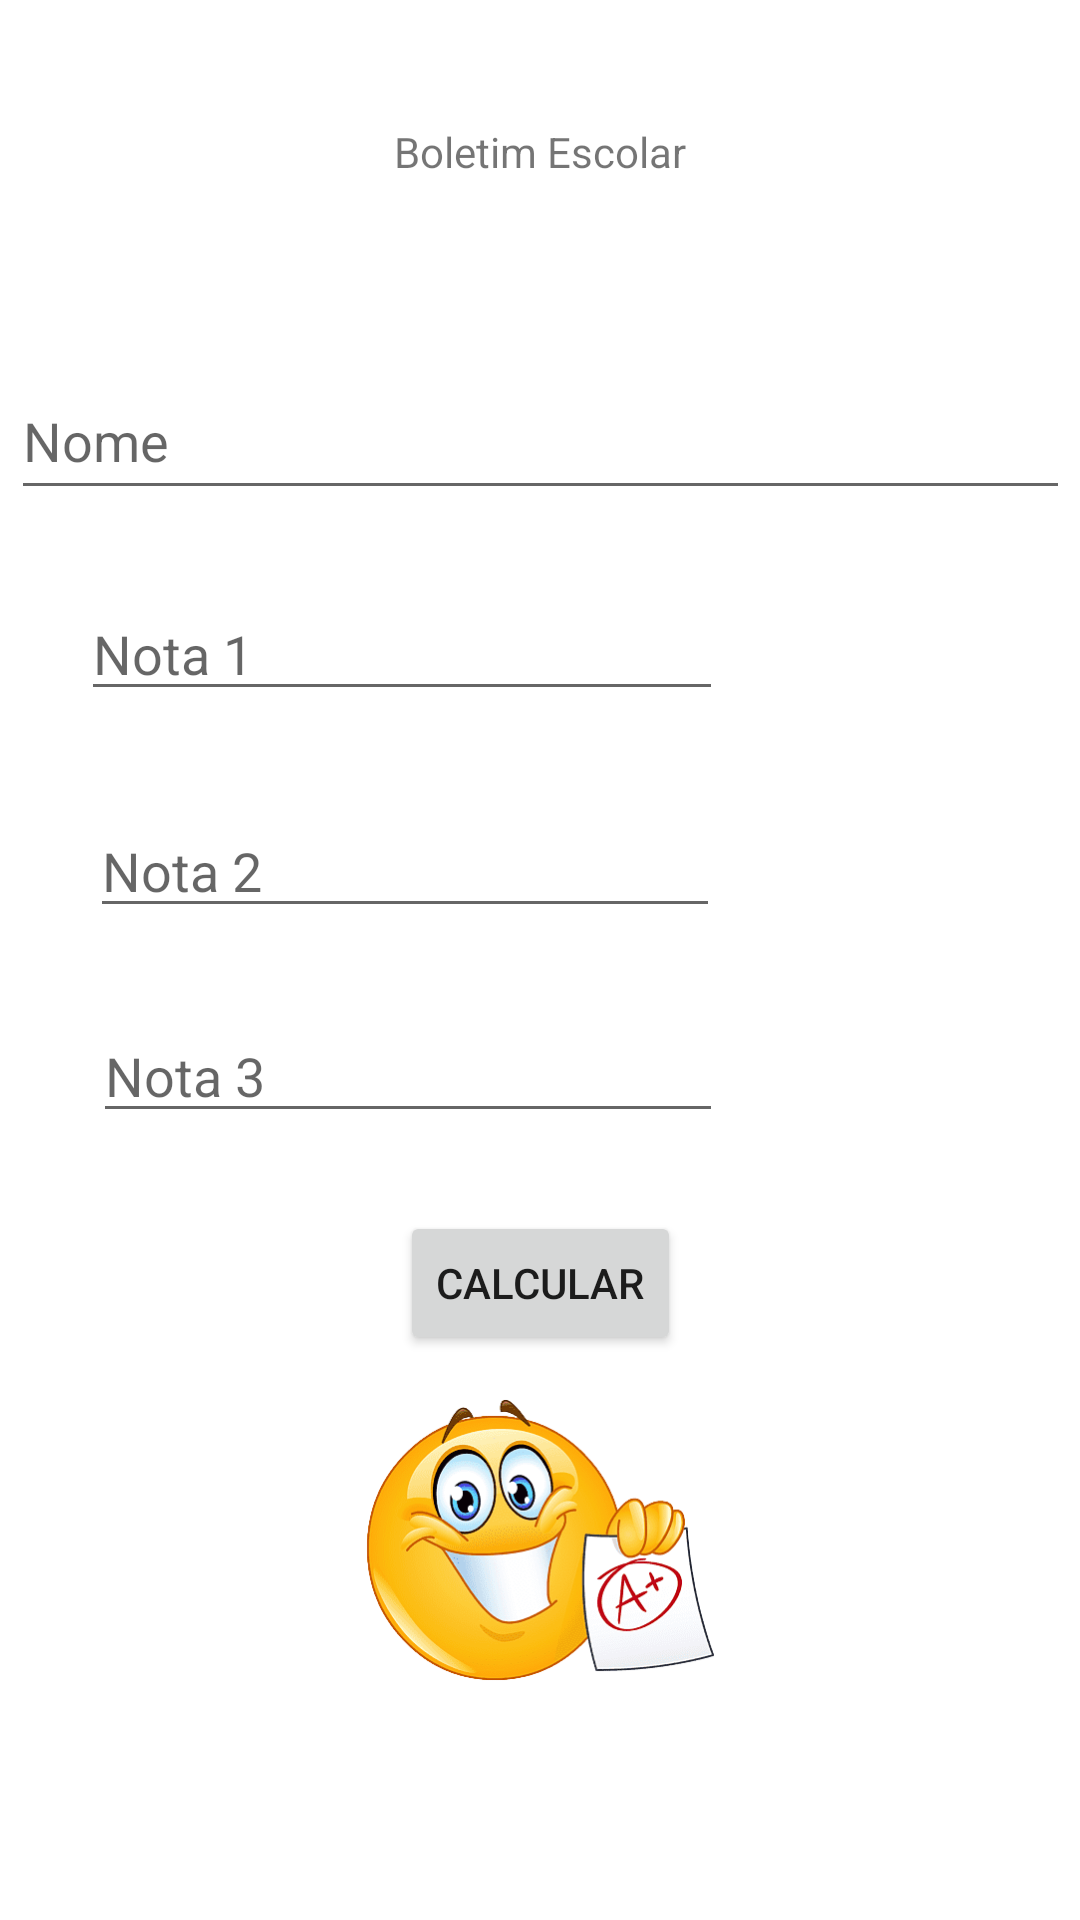

Icon bounding boxes for this 1080 x 1920 phone screenshot, format (x1, y1, x2, y2):
boletim: (367, 1400, 714, 1680)
